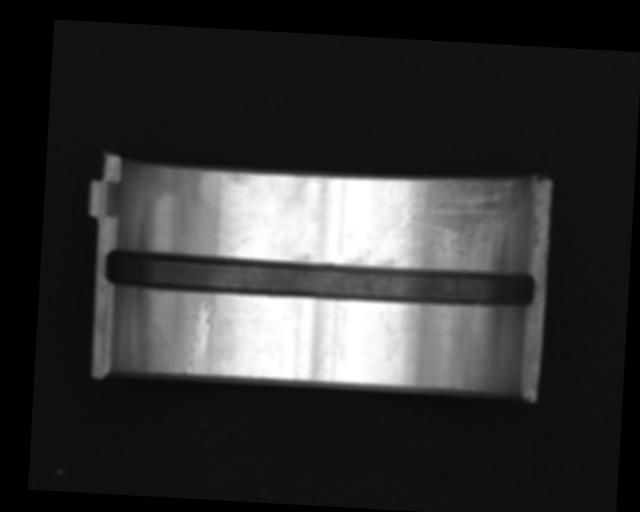gap: (103, 246, 535, 309)
nick: (184, 299, 214, 377)
scratch: (379, 169, 523, 274)
